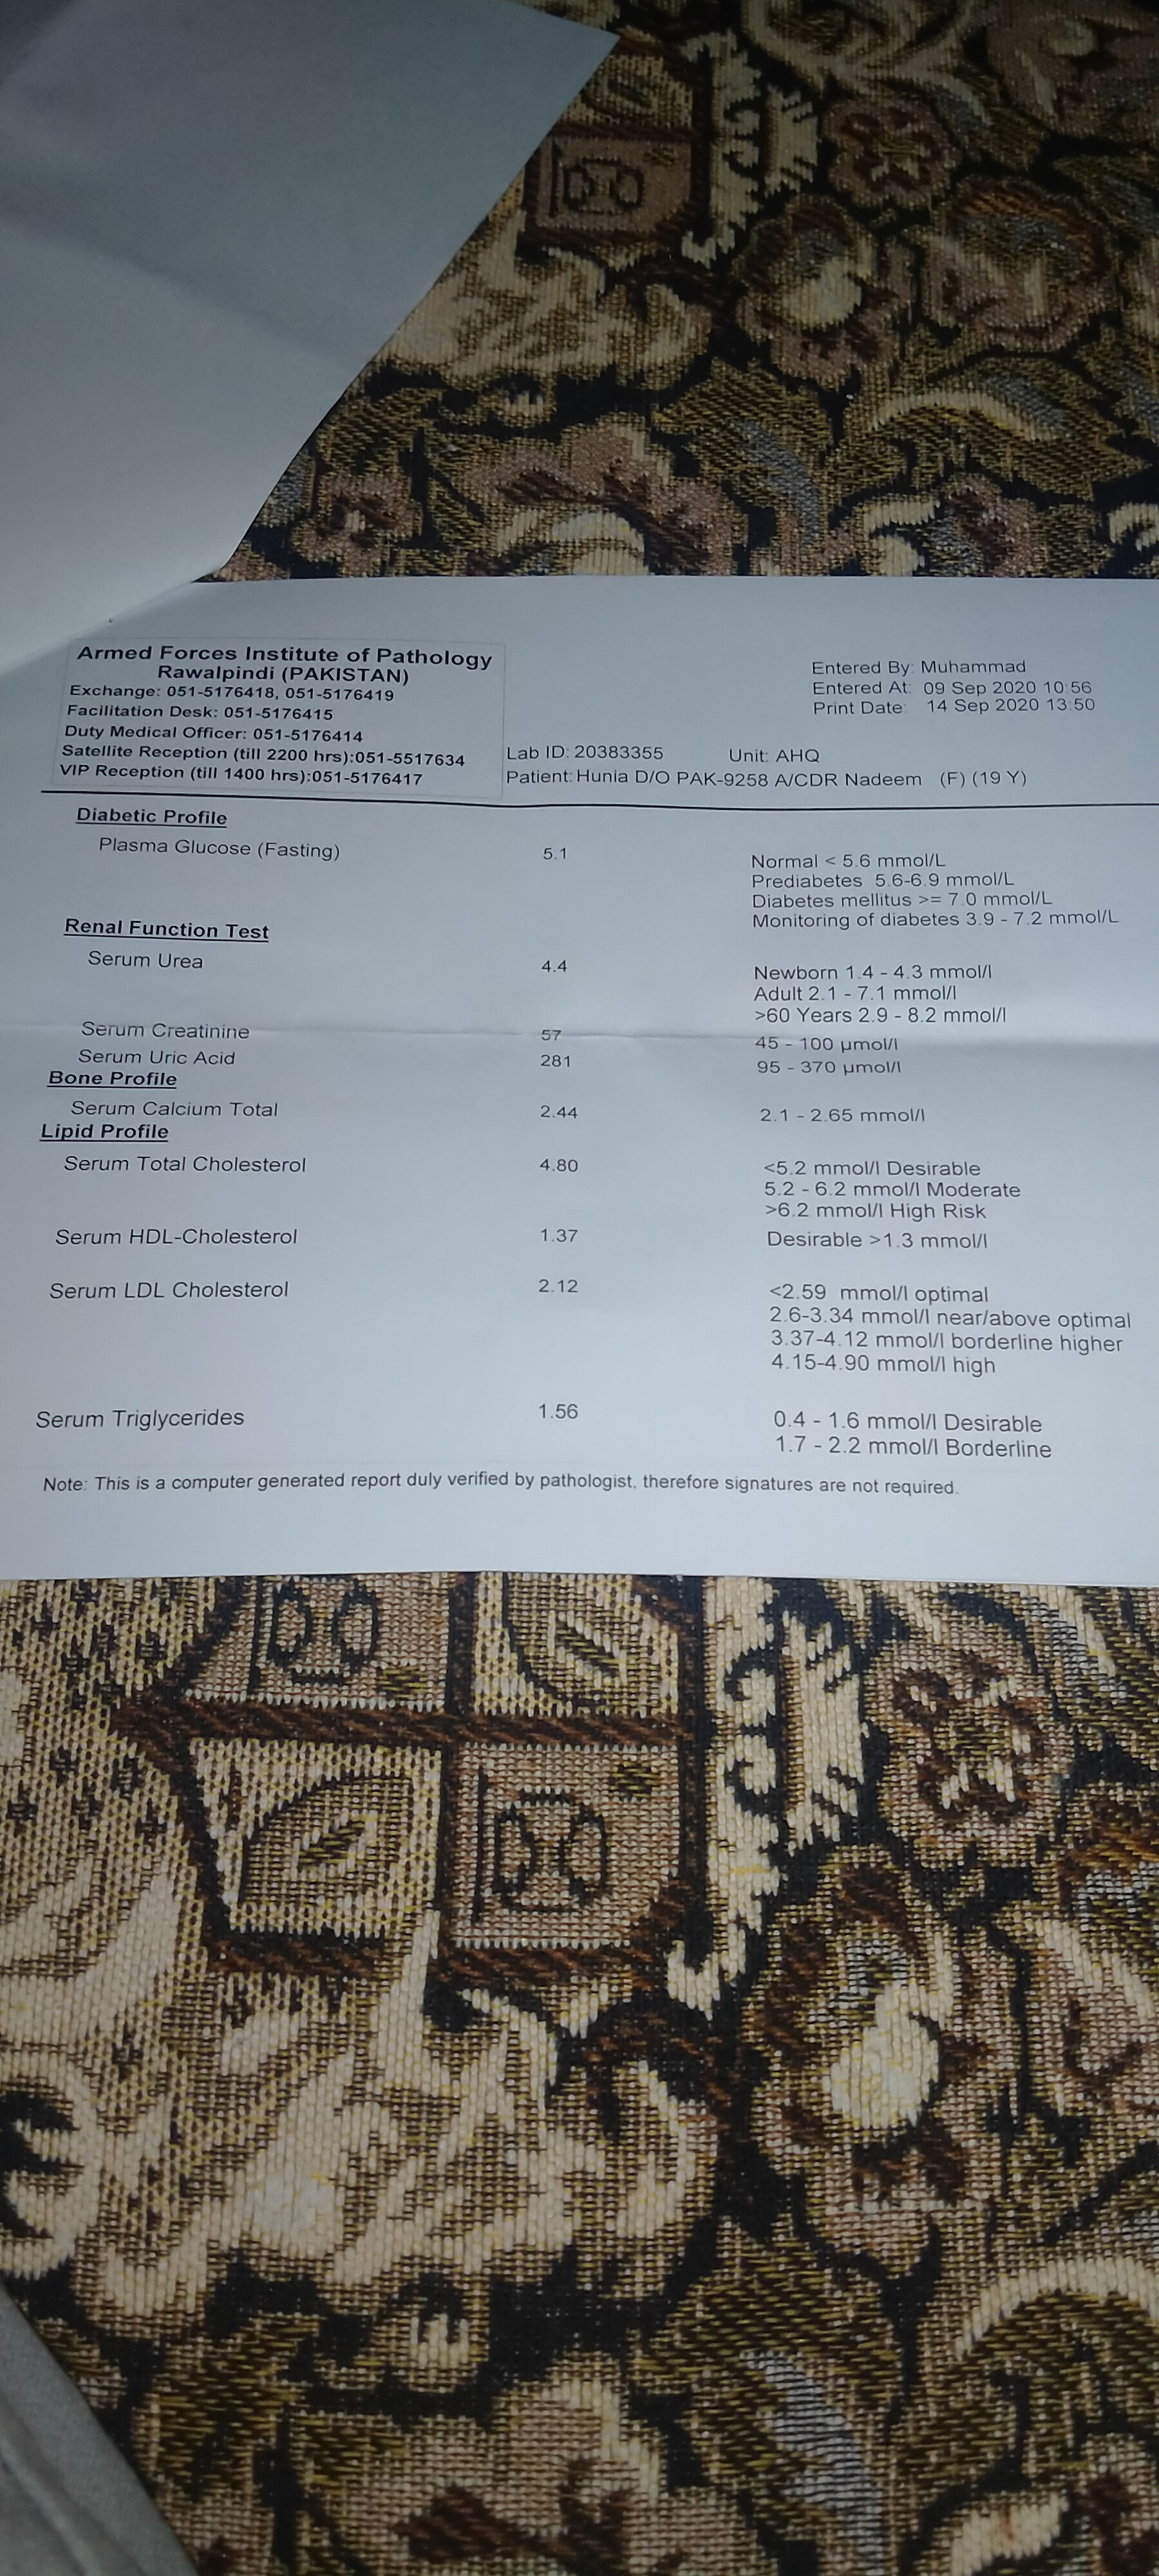report: (18, 797, 1154, 1521)
